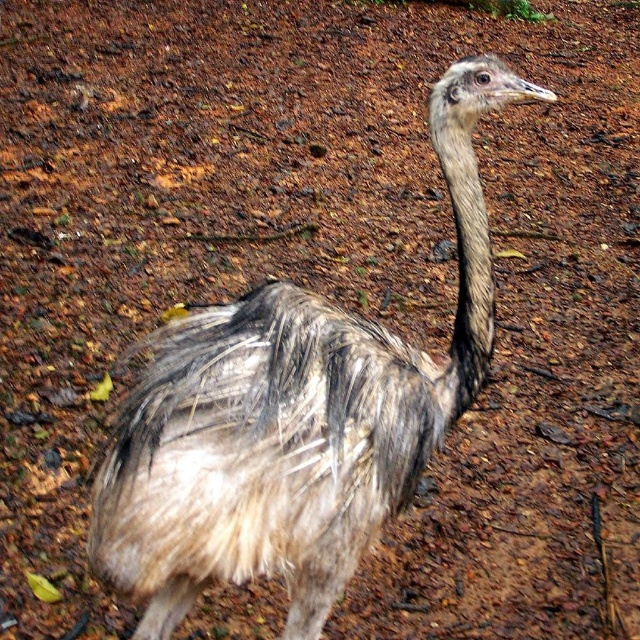Ostrich: (39, 26, 522, 640)
